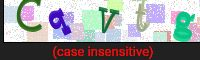C: (11, 1, 44, 35)
V: (92, 2, 124, 36)
g: (169, 6, 200, 41)
q: (46, 3, 77, 38)
t: (131, 2, 152, 36)
